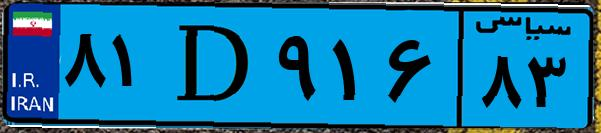1: (330, 28, 385, 110), (110, 28, 158, 98)
3: (525, 38, 570, 115)
6: (385, 28, 445, 110)
8: (57, 26, 110, 100), (475, 38, 525, 113)
9: (270, 28, 330, 110)
D: (158, 12, 270, 120)
